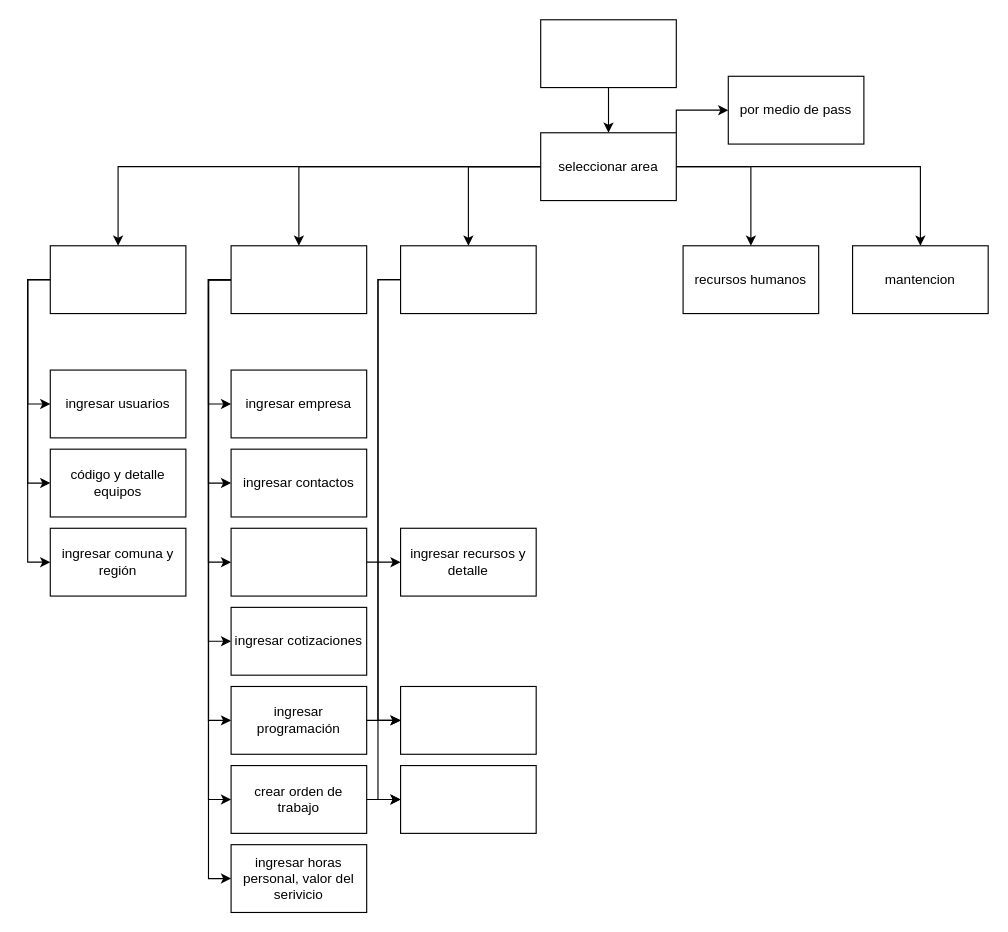
Image size: 1008x932. Some labels were removed from this diagram. Here are the shapes that lost their labels. From the top down, the centre of each, then its label:
pixel 608 53: ingresar a sistema
pixel 117 279: administrador
pixel 298 279: comercial
pixel 467 279: operaciones
pixel 298 561: ingresar visitas
pixel 467 719: ingresar recursos
pixel 467 798: recepción, utilización y devolución de OT
